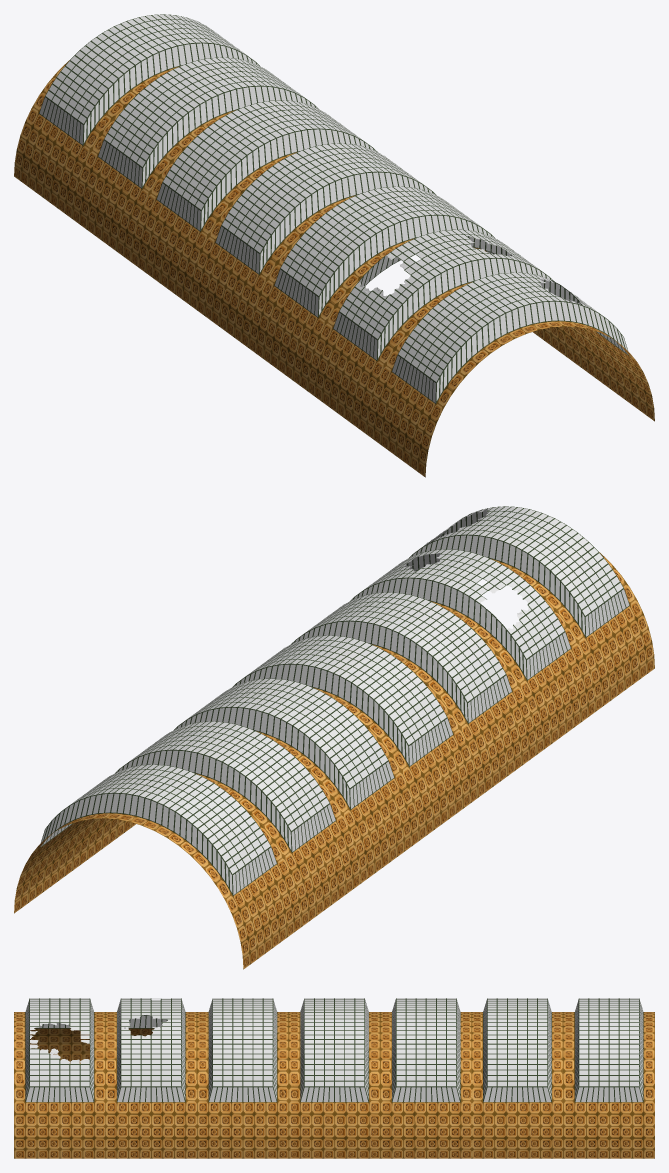
The model's file is hall_cassé.fbx.
3 views of the same model, one above another, from view 1: azimuth 30°, elevation 25°; view 2: azimuth 150°, elevation 25°; view 3: azimuth 270°, elevation 25° (orthographic). The views are drawn at different scales.
Visible parts, largest first — view 1: Cylinder.039; view 2: Cylinder.039; view 3: Cylinder.039.
Boxes of the visible parts, x1=… form: Cylinder.039: x1=14, y1=14, x2=654, y2=477; Cylinder.039: x1=14, y1=506, x2=654, y2=969; Cylinder.039: x1=14, y1=998, x2=654, y2=1158.
Size of the model in its own units: 5302 by 3065 by 16474.
